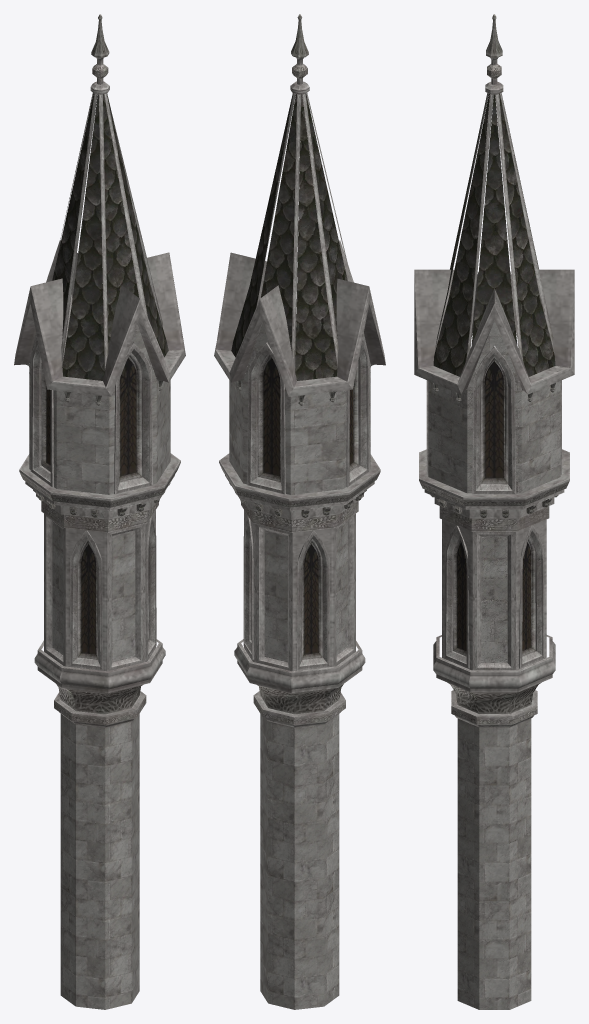
The model's file is eso_ss4_building4-transformed.glb.
The picture shows the model from 3 angles, left to right: view 1: azimuth 30°, elevation 25°; view 2: azimuth 150°, elevation 25°; view 3: azimuth 270°, elevation 25°; orthographic projection.
Visible parts, largest first — view 1: default; view 2: default; view 3: default.
Boxes of the visible parts, x1,y1,x2,y2 form: default: (14, 14, 185, 1009); default: (214, 14, 385, 1009); default: (414, 14, 574, 1009).
Size of the model in its own units: 8.61 by 58.04 by 8.61.
Materials: 4 (4 with a texture image).
